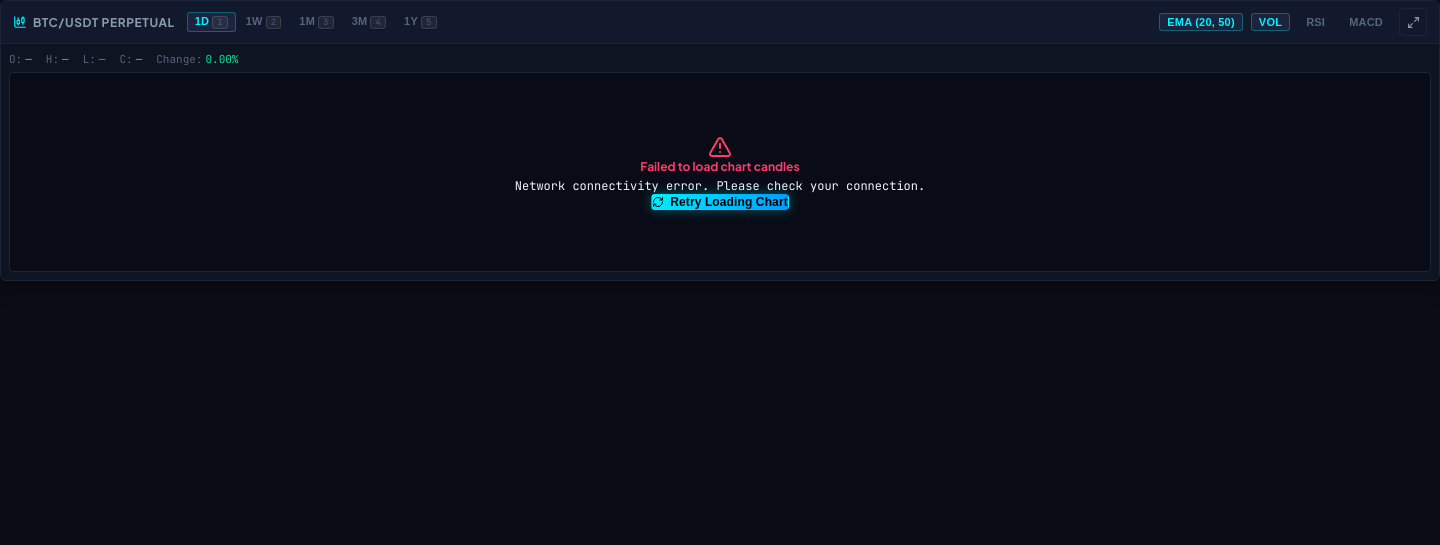
Test case: Phase 7 — Trading Chart Feature › displays error state with retry button when query fails
Expected: the element with test id "chart-error" is shown, [9,72,1431,272]
Expected: the text "Failed to load chart candles" is shown, [640,158,800,174]
What coordinates should you click on to do the following:
click the button with test id "chart-retry-btn"
I would click on:
 (720, 202)
Its box is [651,194,789,210].
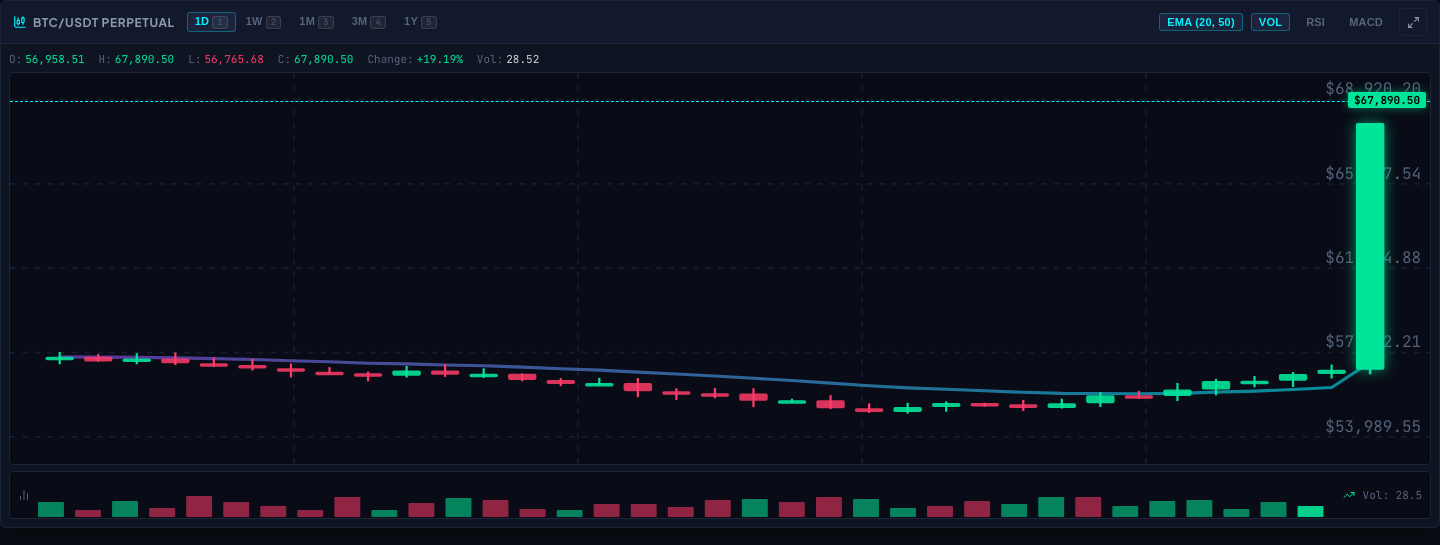
Result: the icon with test id "chart-svg" is shown
